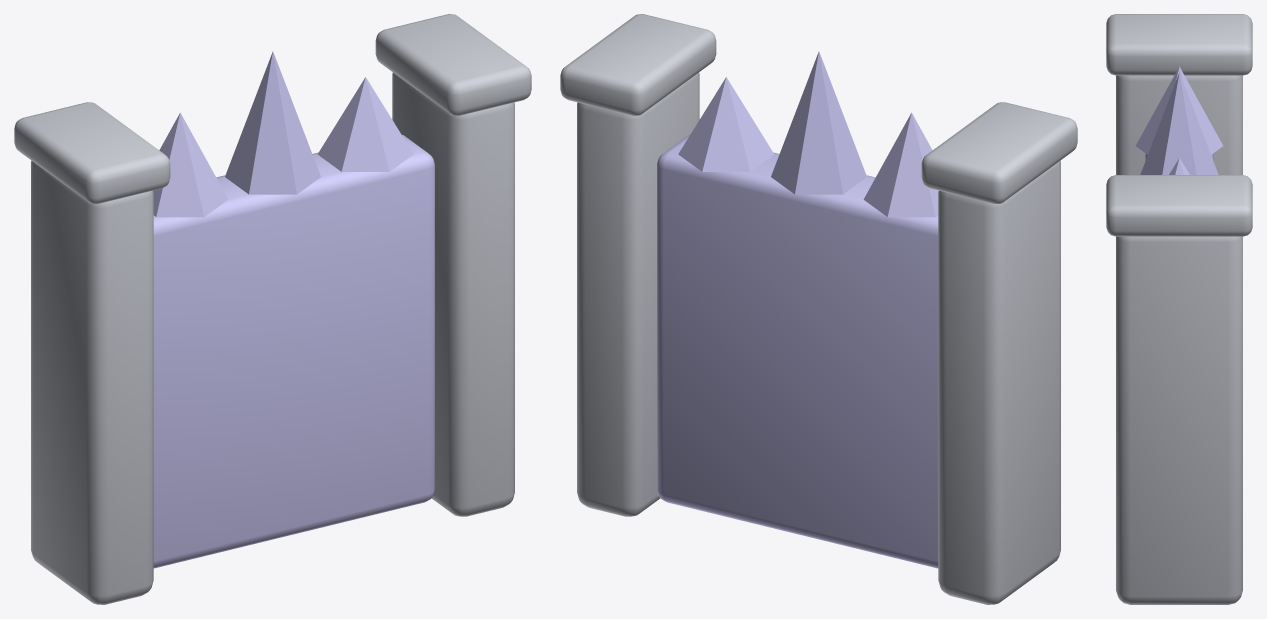
Rendered from door.fbx.
3 renders of one model, left to right at view 1: azimuth 30°, elevation 25°; view 2: azimuth 150°, elevation 25°; view 3: azimuth 270°, elevation 25°, orthographic. The views are drawn at different scales.
Parts seen in each view (by area): view 1: Door; view 2: Door; view 3: Door.
Boxes of the visible parts, <box> form: Door: <box>14,14,531,604</box>; Door: <box>560,14,1077,604</box>; Door: <box>1106,14,1252,604</box>.
Bounding box in the file's own units: 0.96 × 1 × 0.3.
